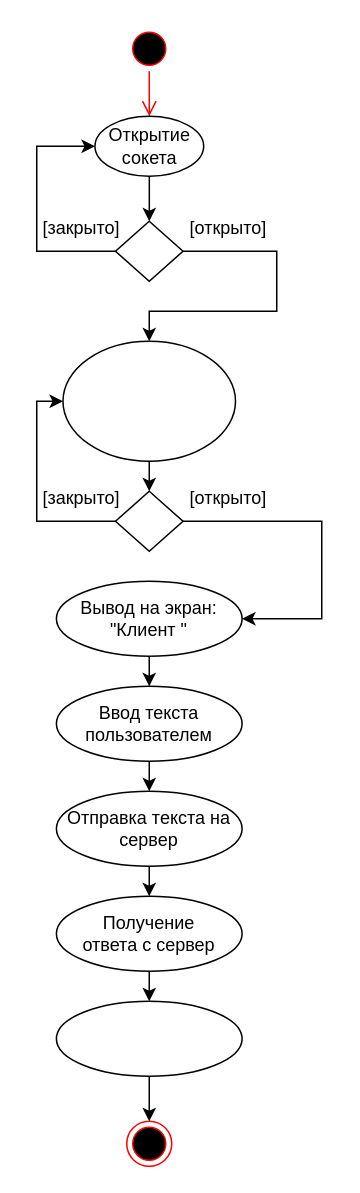
Image size: 360x1193. Some labels were removed from this diagram. The centre of each missing label's shape, as x and y in pixels:
"Вывод ответа на экран" goes at (148,1038).
"Ожидание подключения по заданному порту" goes at (149,400).
